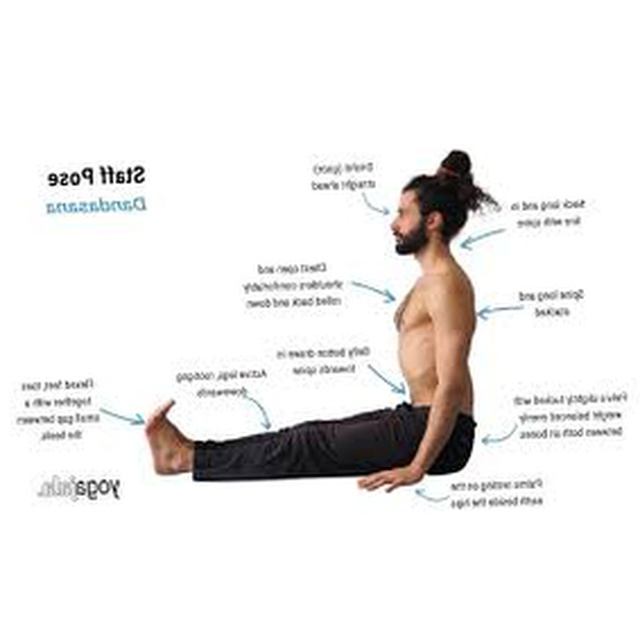Staff_Pose: (145, 148, 501, 493)
